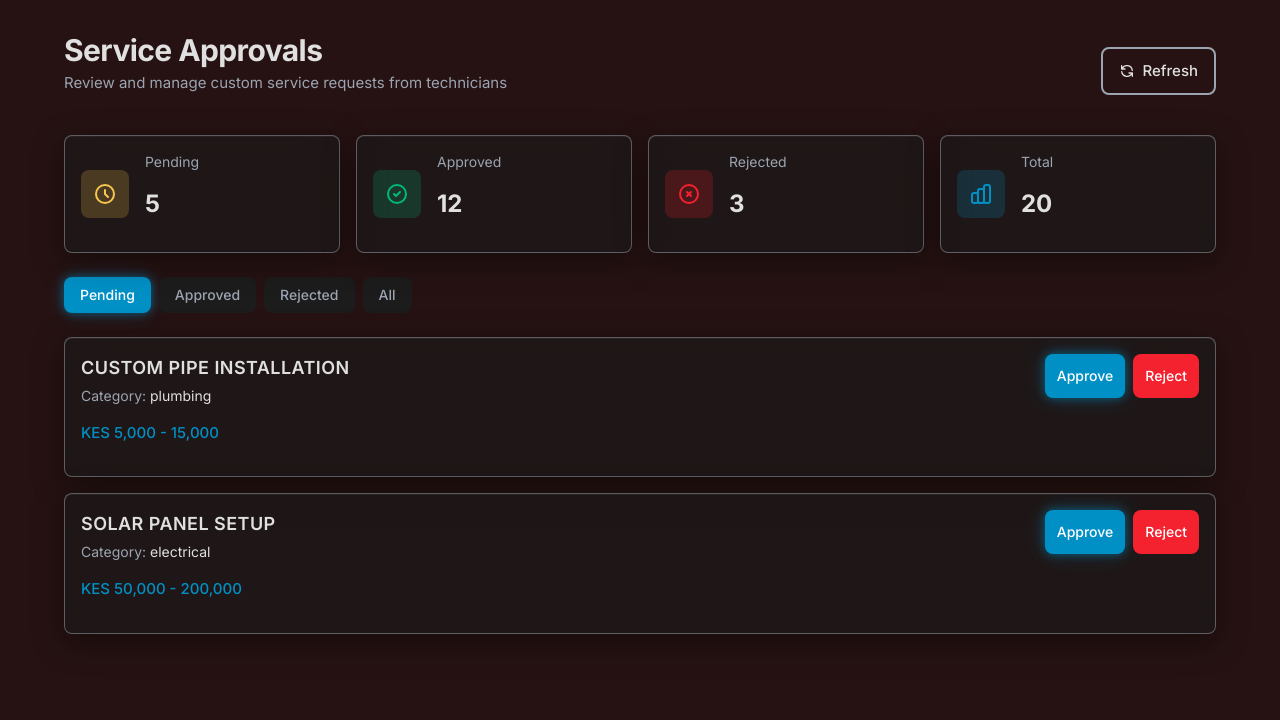
Test: ServiceApprovalDashboard Component › Modal Integration › should open reject modal when reject button clicked
Expected: the heading "CUSTOM PIPE INSTALLATION" is shown, [81,356,350,378]
Click the 1st button "Reject" at (1166, 376), box [1133,354,1199,398]
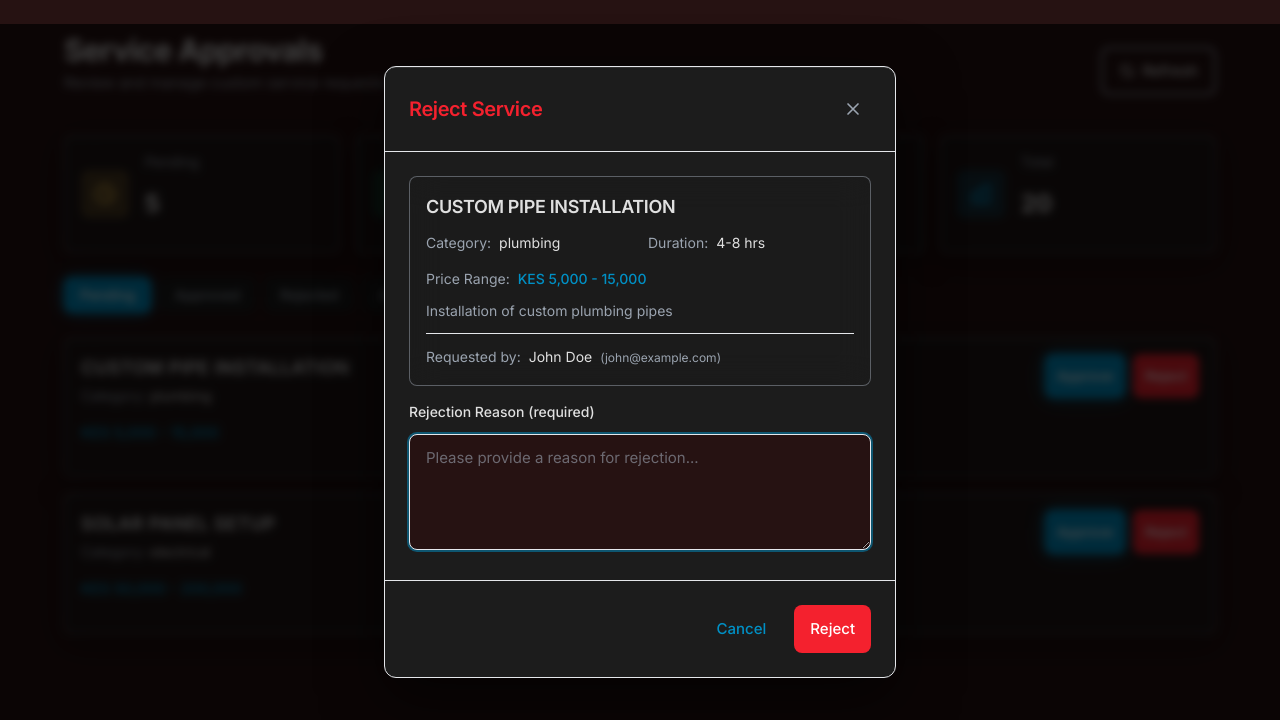
Result: the dialog is shown
Result: the heading "Reject Service" is shown at [409,95,542,123]
